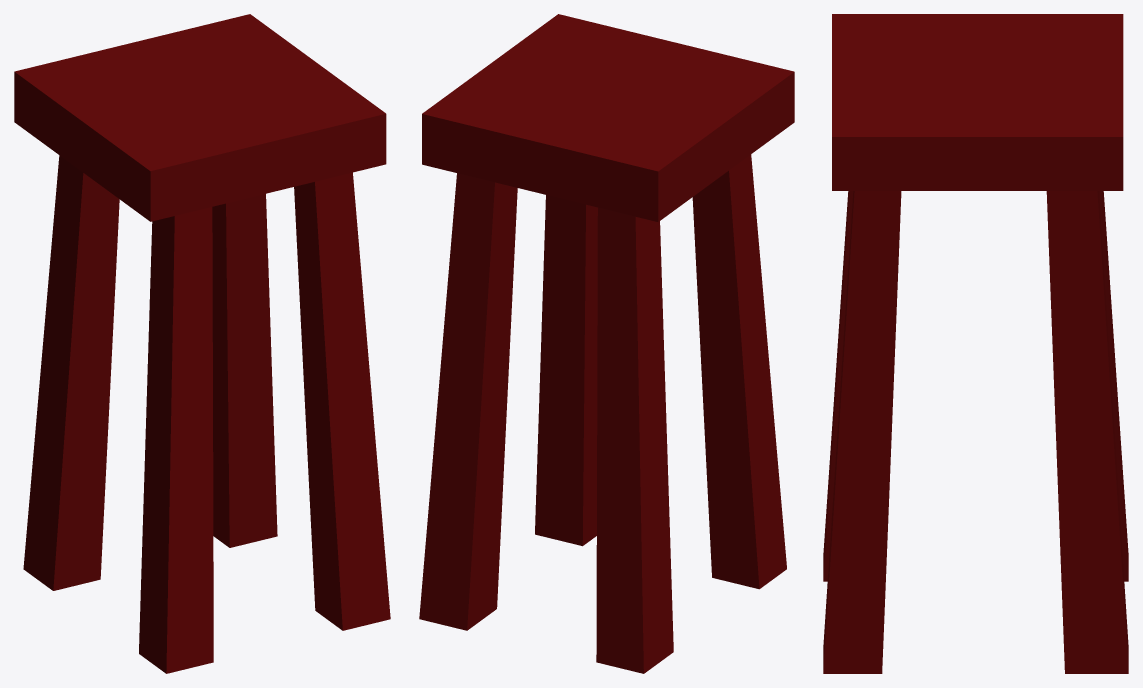
File: Bar Stool.fbx
The picture shows the model from 3 angles, left to right: view 1: azimuth 30°, elevation 25°; view 2: azimuth 150°, elevation 25°; view 3: azimuth 270°, elevation 25°; orthographic projection. The views are drawn at different scales.
Parts seen in each view (by area): view 1: pCube1; view 2: pCube1; view 3: pCube1.
Boxes of the visible parts, x1=… form: pCube1: x1=14, y1=14, x2=390, y2=673; pCube1: x1=419, y1=14, x2=794, y2=673; pCube1: x1=823, y1=14, x2=1128, y2=673.
Bounding box in the file's own units: 1.76 × 3.58 × 1.85.
